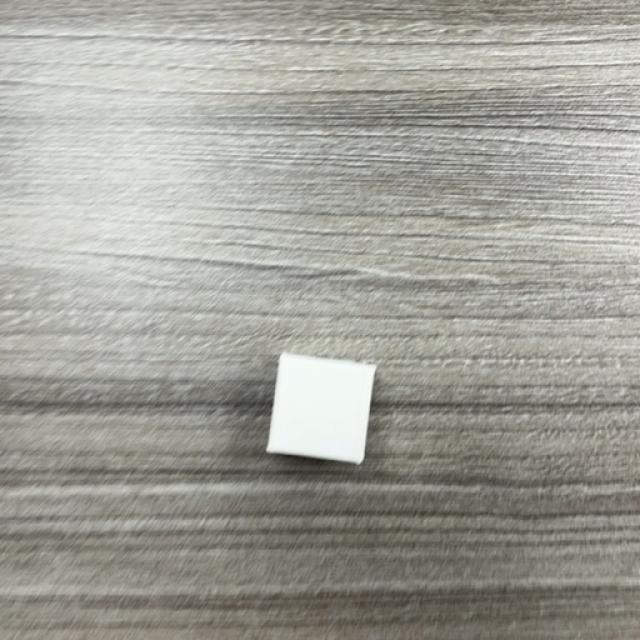Blanco: (266, 354, 378, 466)
